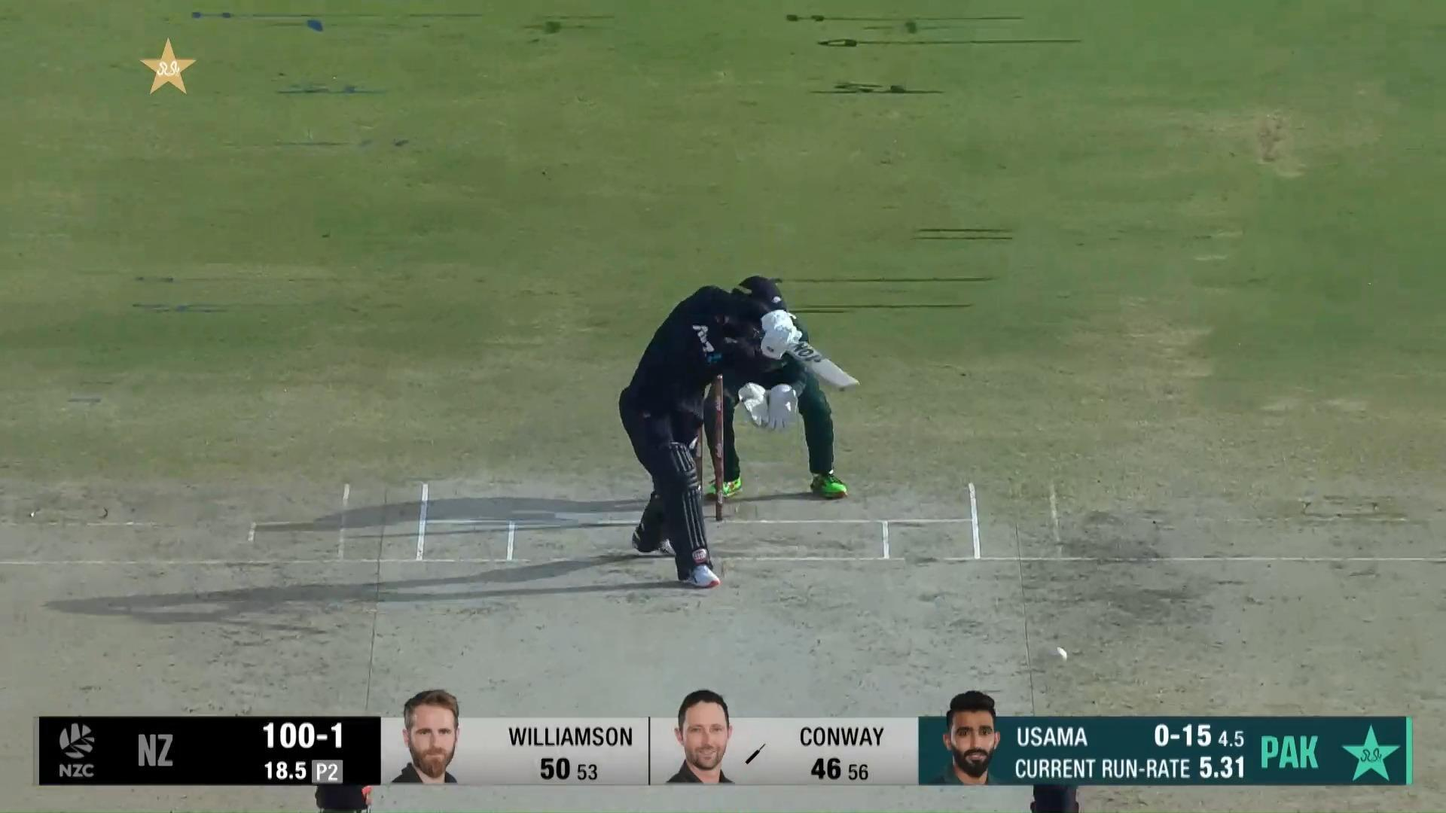BM 1: (617, 273, 861, 591)
BO: (1026, 763, 1083, 813)
